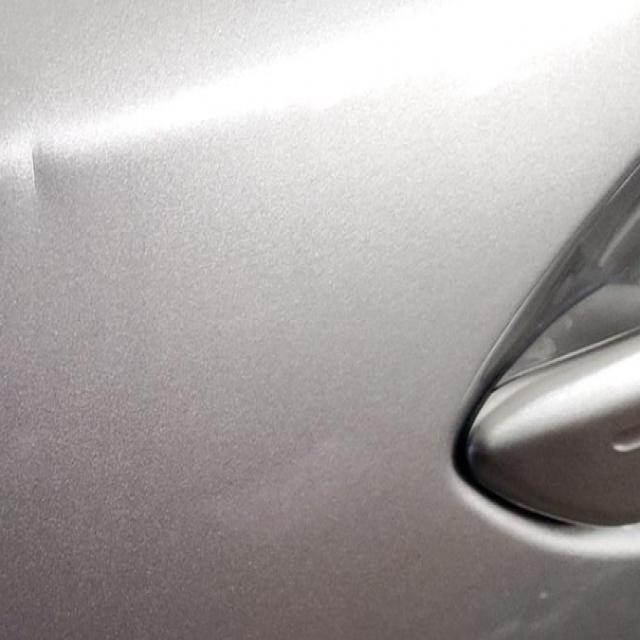dents: (2, 116, 68, 240)
